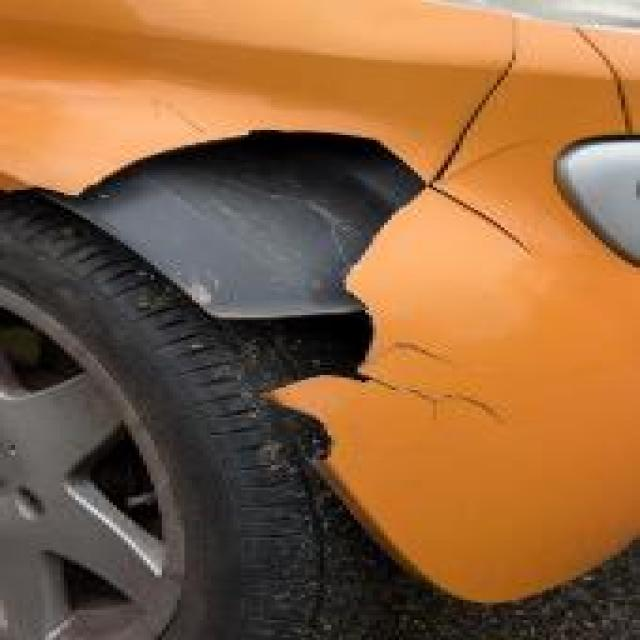Fender: (8, 70, 621, 470)
